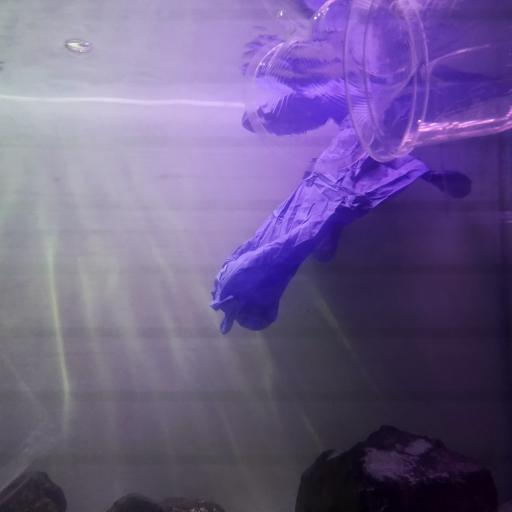glove: (209, 85, 512, 335)
plastic_cup: (242, 0, 423, 174), (341, 0, 512, 166), (0, 351, 60, 505), (438, 136, 512, 223)
